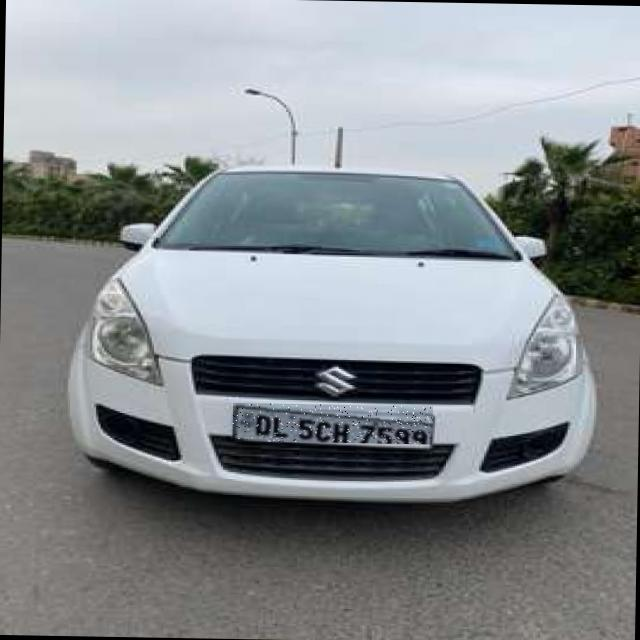Plate: (233, 403, 434, 445)
